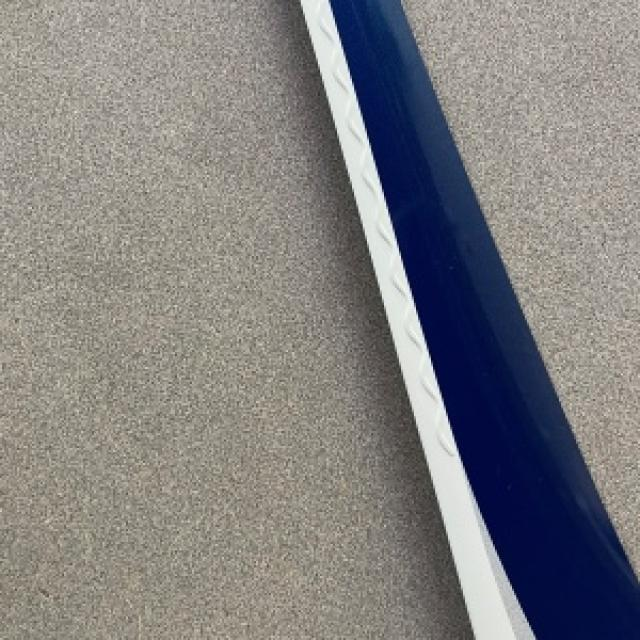healthy: (0, 0, 467, 638), (299, 0, 638, 638)
